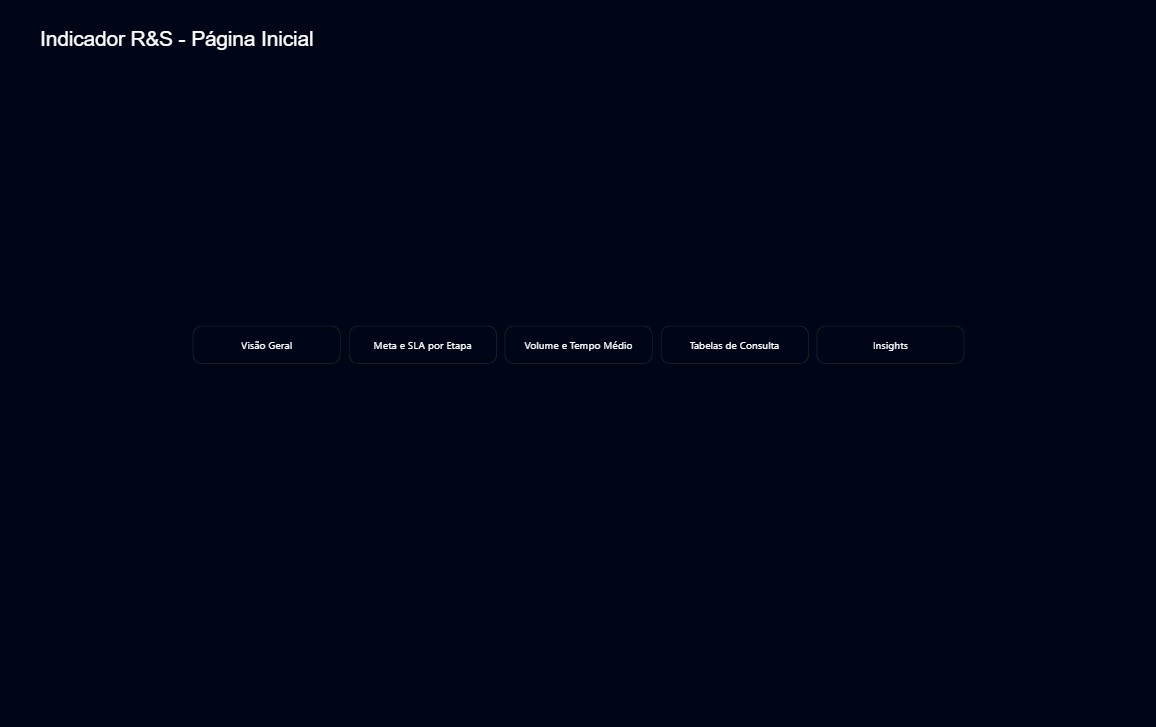

Layout of this report page (visuals, bound fields, positions):
{"tool":"powerbi","page":{"name":"Página Inicial","canvas":[1500,950],"ordinal":0},"visuals":[{"type":"image","box":[976.2,21,498.6,98.8],"z":0},{"type":"textbox","box":[47,34.2,527.9,70.5],"z":1000},{"type":"pageNavigator","box":[249.3,424.2,1000.5,50.2],"z":2000}]}

Visuals, with their boxes in screenshot pixels (x1, y1, x2, y2), scaled from the page's 1500x950 canvas onto the 1156x727 screenshot:
image: x1=752, y1=16, x2=1137, y2=92
textbox: x1=36, y1=26, x2=443, y2=80
pageNavigator: x1=192, y1=325, x2=963, y2=363
